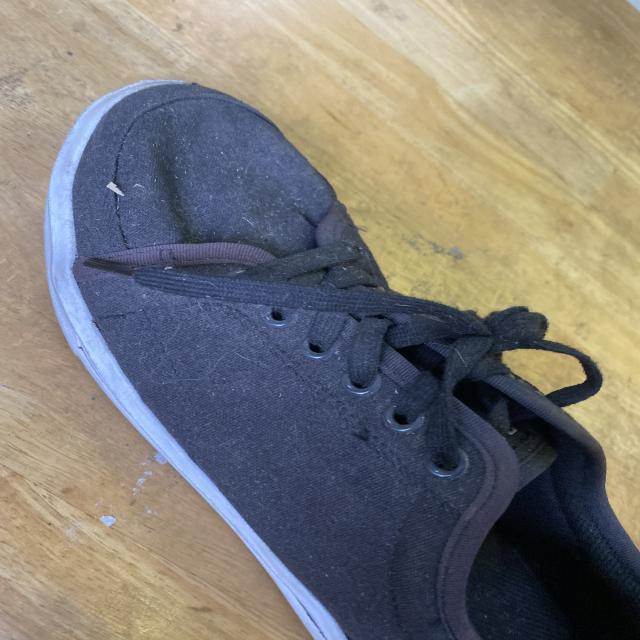broken-error: (333, 426, 388, 450), (420, 611, 456, 632)
